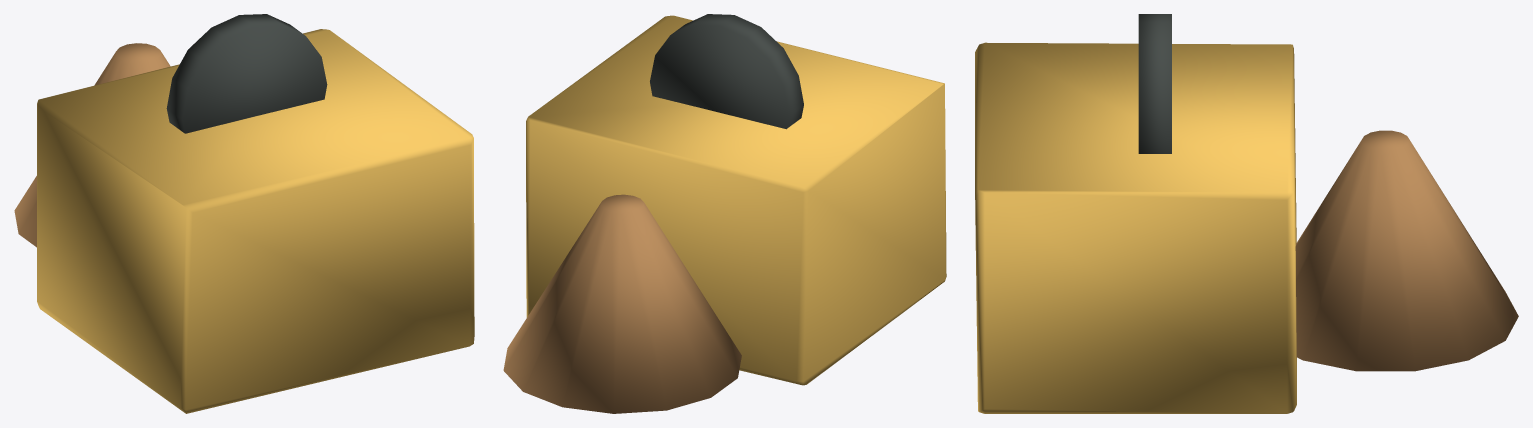
The model's file is equipment_flour_mill.glb.
3 renders of one model, left to right at view 1: azimuth 30°, elevation 25°; view 2: azimuth 150°, elevation 25°; view 3: azimuth 270°, elevation 25°, orthographic. The views are drawn at different scales.
Visible parts, largest first — view 1: Mill, Wheel, Hopper; view 2: Mill, Hopper, Wheel; view 3: Mill, Hopper, Wheel.
Part boxes in pixels (x1=…): Mill: x1=37, y1=29, x2=474, y2=413; Wheel: x1=166, y1=14, x2=327, y2=133; Hopper: x1=14, y1=43, x2=170, y2=247; Mill: x1=526, y1=15, x2=946, y2=385; Hopper: x1=503, y1=194, x2=741, y2=413; Wheel: x1=650, y1=14, x2=803, y2=129; Mill: x1=975, y1=42, x2=1296, y2=413; Hopper: x1=1295, y1=130, x2=1518, y2=371; Wheel: x1=1138, y1=14, x2=1171, y2=153.
Size of the model in its own units: 1.3 by 1.26 by 1.96.
